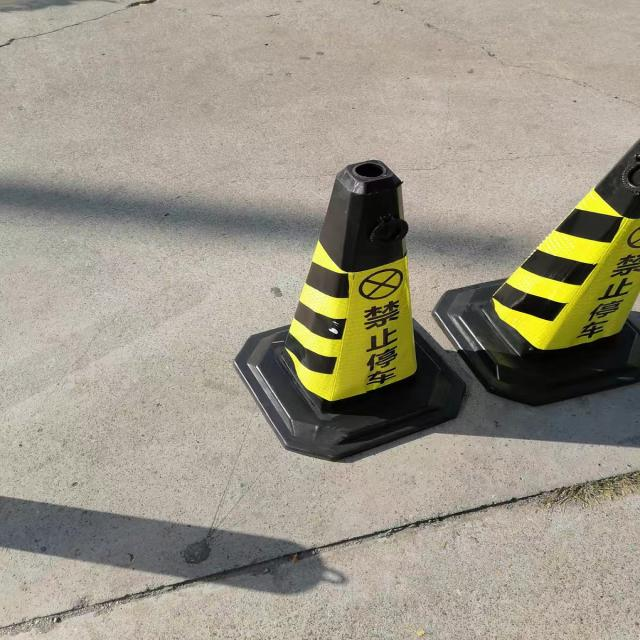reflective_cone: (236, 156, 465, 458), (430, 129, 640, 405)
